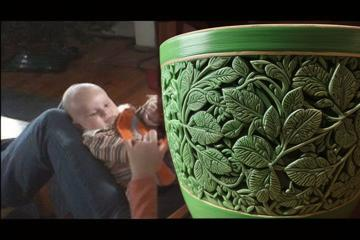person: (3, 65, 354, 221), (60, 83, 214, 213)
person/foot: (167, 191, 200, 214), (194, 160, 215, 182)
person/hand: (124, 133, 166, 175), (148, 97, 190, 132), (147, 100, 166, 116)
person/head: (236, 64, 356, 163), (61, 83, 121, 130)
pottedplant: (157, 21, 360, 223)
